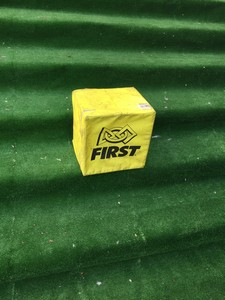cube: (71, 87, 154, 175)
